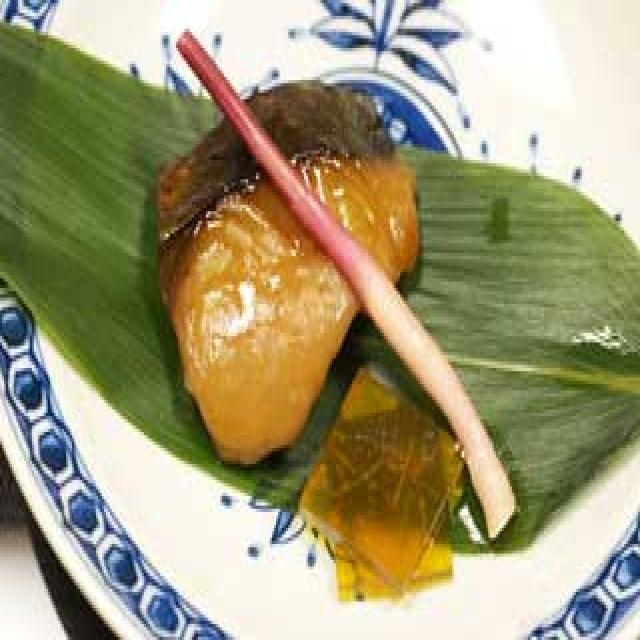熟制海鲜: (156, 77, 432, 467)
